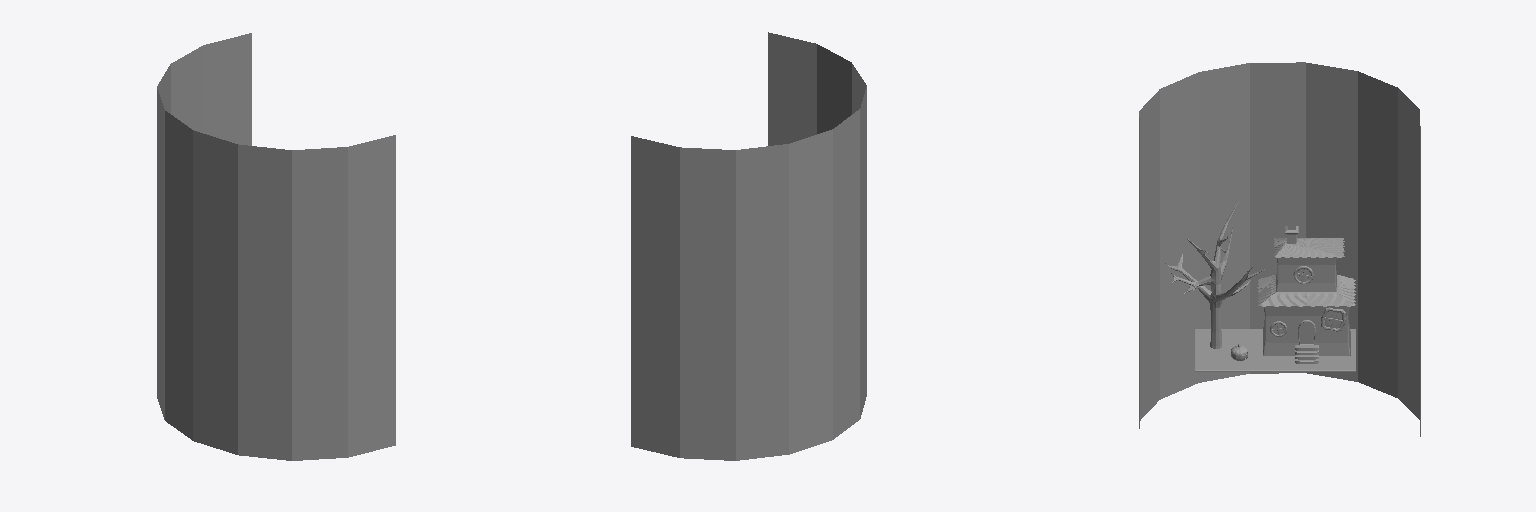
Rendered from CasaBrujas.obj.
3 renders of one model, left to right at view 1: azimuth 30°, elevation 25°; view 2: azimuth 150°, elevation 25°; view 3: azimuth 270°, elevation 25°, orthographic.
Parts seen in each view (by area): view 1: HalloweenHouse_obj; view 2: HalloweenHouse_obj; view 3: HalloweenHouse_obj.
Part boxes in pixels (left/top/right/bottom): HalloweenHouse_obj: left=157, top=33, right=395, bottom=460; HalloweenHouse_obj: left=631, top=32, right=866, bottom=460; HalloweenHouse_obj: left=1139, top=62, right=1420, bottom=436.
Size of the model in its own units: 18.88 by 35.91 by 29.46.